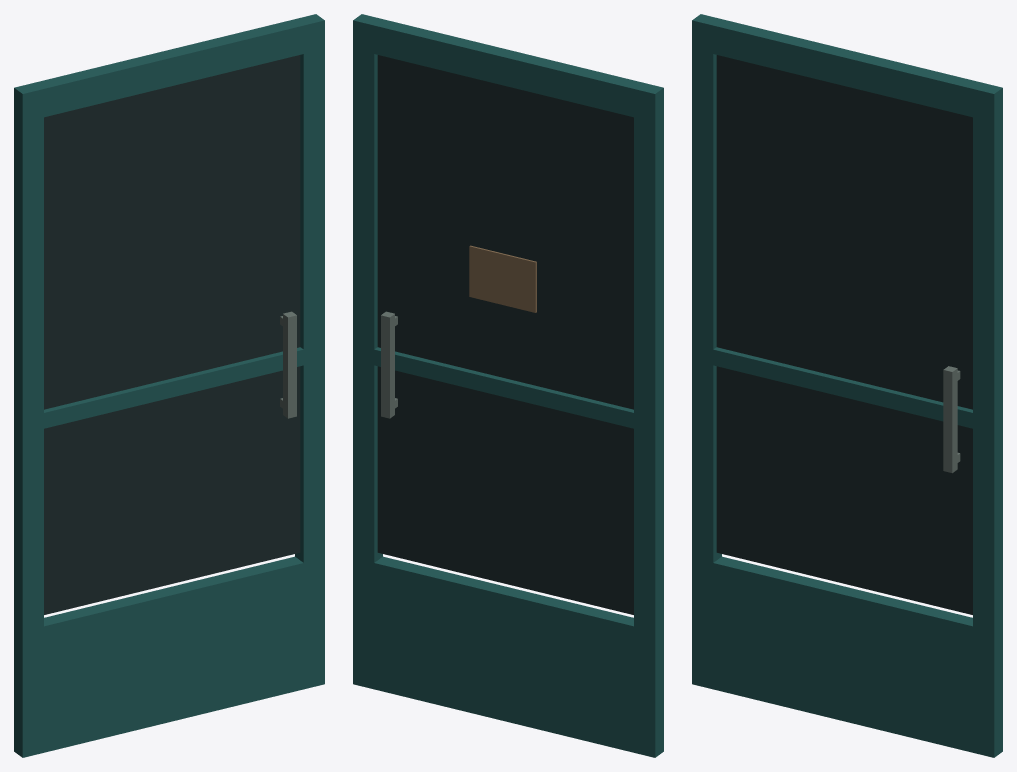
The model's file is usa_magazin_sat.glb.
The picture shows the model from 3 angles, left to right: view 1: azimuth 30°, elevation 25°; view 2: azimuth 150°, elevation 25°; view 3: azimuth 330°, elevation 25°; orthographic projection.
Parts seen in each view (by area): view 1: GeamUsa, Usa; view 2: GeamUsa, Usa; view 3: GeamUsa, Usa.
Boxes of the visible parts, left/top/right/bottom form: GeamUsa: left=44, top=55, right=300, bottom=614; Usa: left=14, top=14, right=324, bottom=757; GeamUsa: left=377, top=55, right=633, bottom=614; Usa: left=353, top=14, right=663, bottom=757; GeamUsa: left=716, top=55, right=972, bottom=614; Usa: left=692, top=14, right=1002, bottom=757.
Bounding box in the file's own units: 1 × 2.1 × 0.13.
